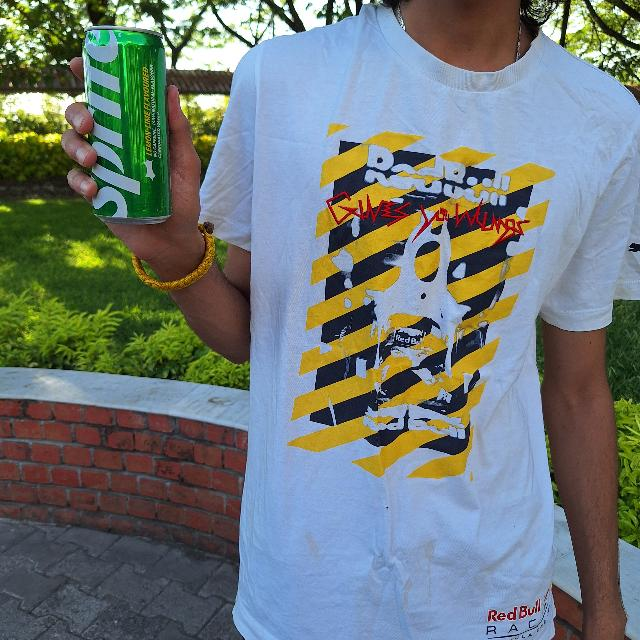Sprite: (78, 25, 178, 225)
